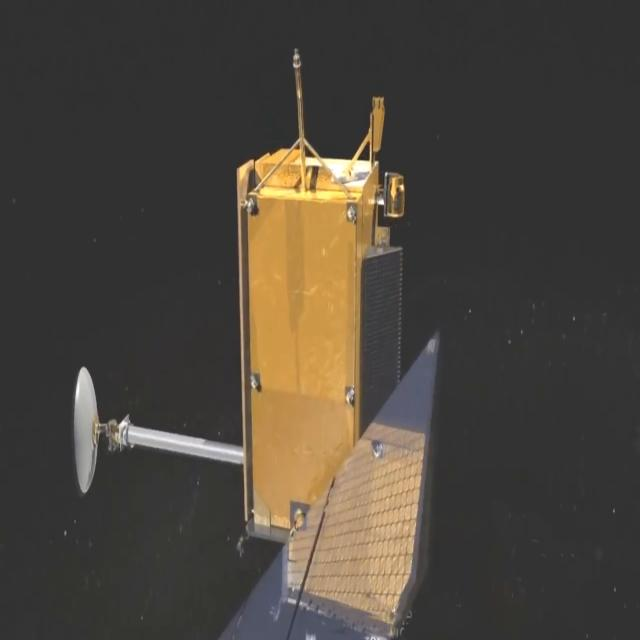satellite: (68, 0, 490, 640)
